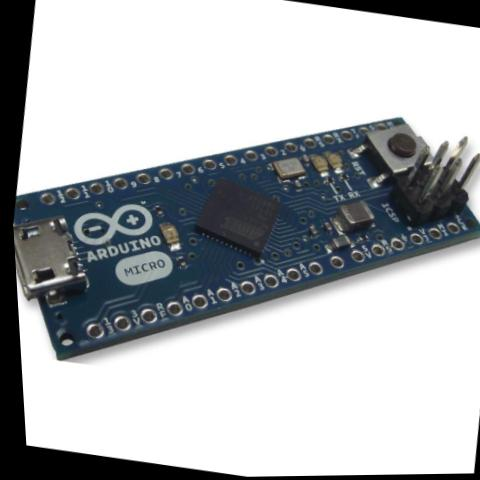Arduino-Micro: (3, 53, 480, 426)
